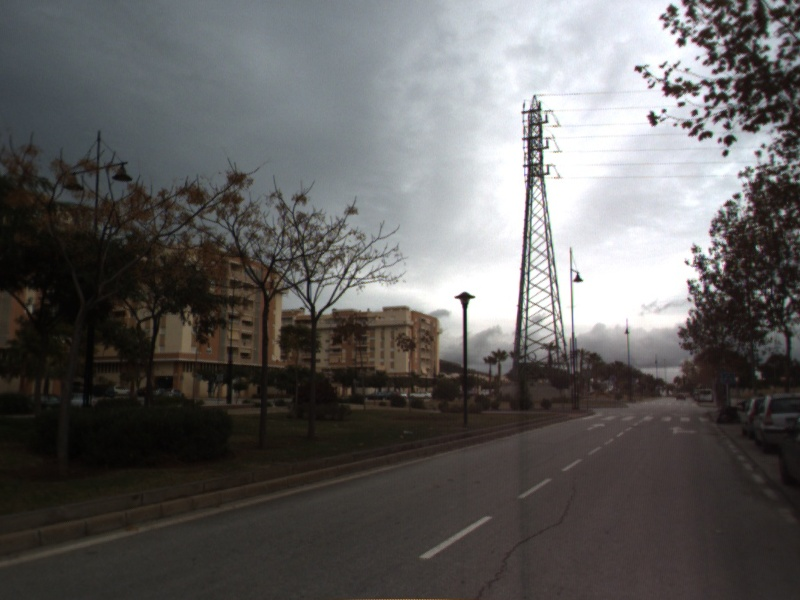STRAIGHT: (585, 421, 608, 432)
STRAIGHT_RIGHT: (666, 424, 701, 436)
